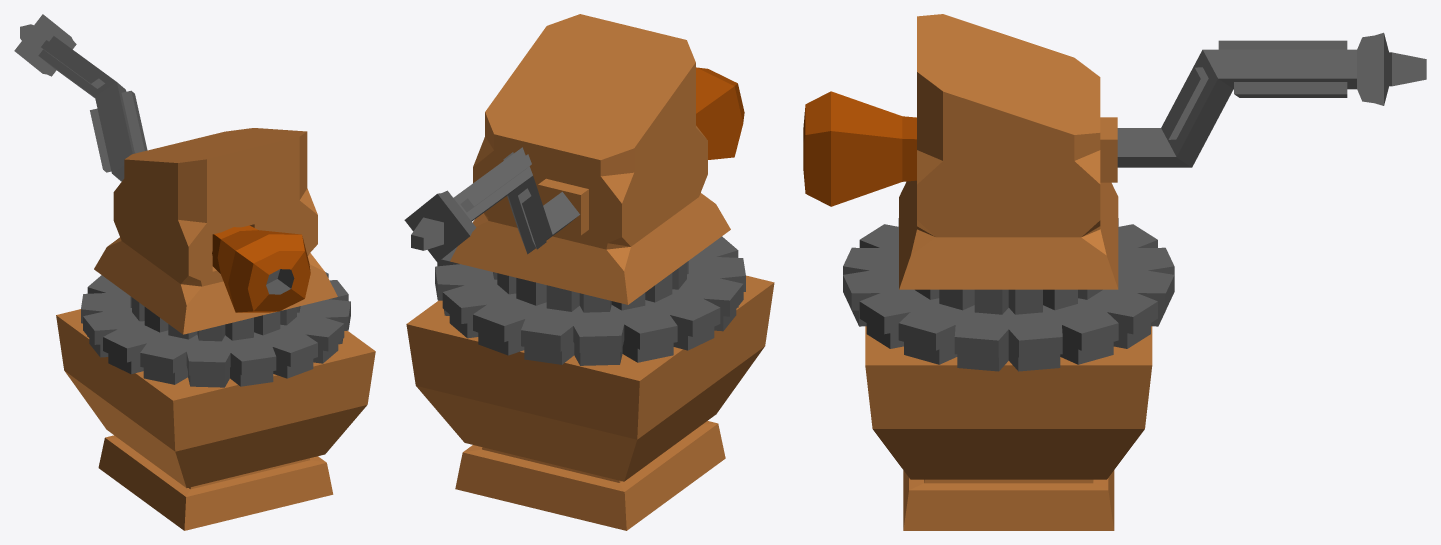
File: tower1Lvl3.fbx
The picture shows the model from 3 angles, left to right: view 1: azimuth 30°, elevation 25°; view 2: azimuth 150°, elevation 25°; view 3: azimuth 270°, elevation 25°; orthographic projection. The views are drawn at different scales.
Parts seen in each view (by area): view 1: Cube.016, Cube.019, Cube.017, Cube.021, Cube.020, Cube.018; view 2: Cube.019, Cube.016, Cube.017, Cube.021, Cube.018, Cube.020; view 3: Cube.019, Cube.016, Cube.017, Cube.021, Cube.020, Cube.018.
Boxes of the visible parts, box(x1,y1,x2,y2) form: Cube.016: box(56, 309, 375, 530); Cube.019: box(94, 128, 337, 334); Cube.017: box(81, 272, 350, 376); Cube.021: box(14, 14, 147, 181); Cube.020: box(212, 225, 310, 312); Cube.018: box(87, 296, 342, 387); Cube.019: box(450, 14, 730, 304); Cube.016: box(406, 275, 774, 530); Cube.017: box(435, 236, 745, 352); Cube.021: box(404, 147, 579, 262); Cube.018: box(444, 261, 738, 365); Cube.020: box(696, 67, 744, 159); Cube.019: box(899, 14, 1118, 289); Cube.016: box(865, 326, 1152, 530); Cube.017: box(843, 218, 1174, 357); Cube.021: box(1117, 32, 1426, 167); Cube.020: box(803, 91, 916, 206); Cube.018: box(851, 289, 1165, 371).
Size of the model in its own units: 212 by 313 by 399.
